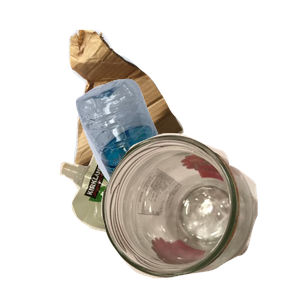cardboard: (66, 27, 242, 197)
glass: (98, 131, 300, 300)
plastic: (73, 76, 300, 256)
trash: (57, 137, 257, 300)
